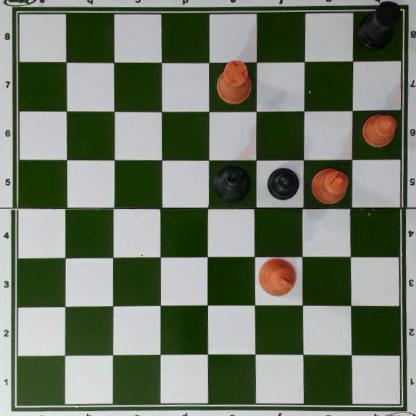black-king: (212, 164, 252, 204)
black-pawn: (267, 165, 298, 200)
black-rook: (355, 3, 400, 47)
white-bishop: (310, 166, 350, 205)
white-king: (256, 256, 297, 297)
white-pawn: (361, 112, 397, 148)
white-rook: (216, 62, 253, 104)
